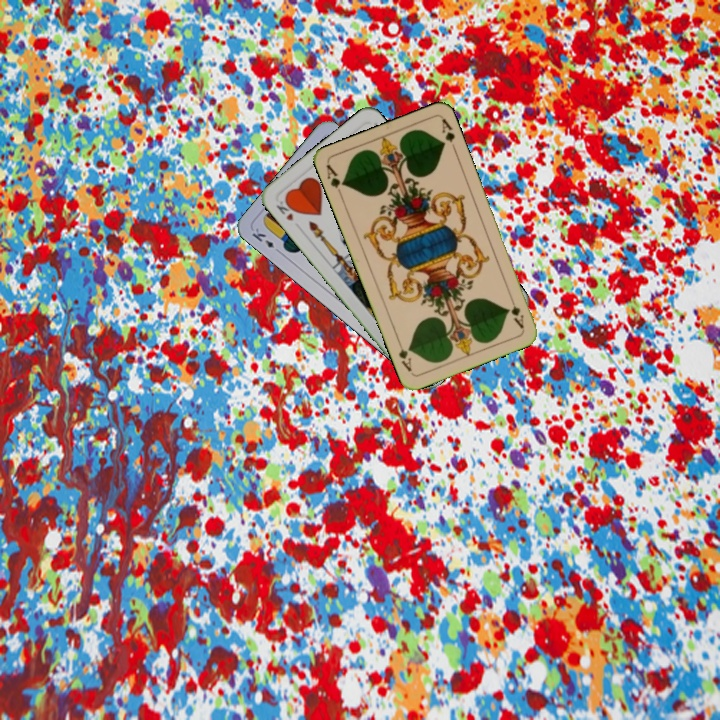EK: (248, 224, 284, 256)
GA: (322, 161, 347, 200), (505, 292, 526, 331)
HK: (272, 193, 299, 224)
